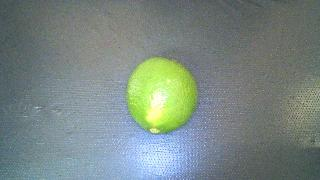EXPORTACION: (126, 57, 198, 134)
